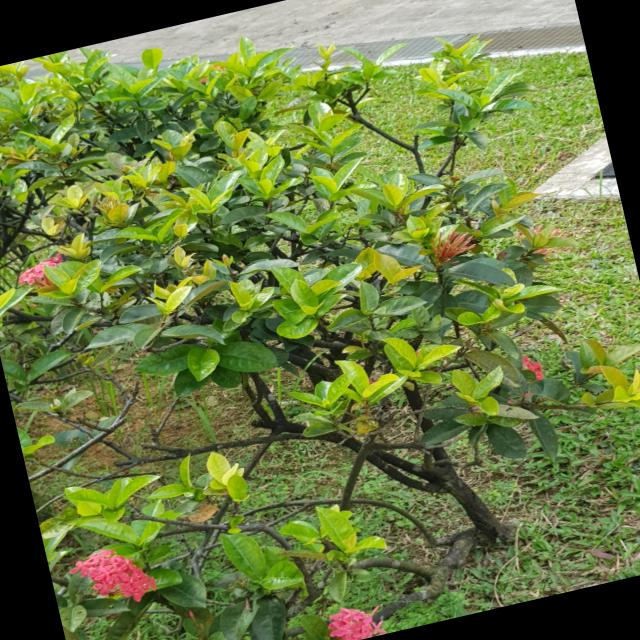Chinese-Ixora: (64, 538, 160, 616), (321, 595, 391, 640), (12, 251, 74, 293), (514, 218, 572, 262), (426, 224, 478, 270), (516, 351, 544, 384)
